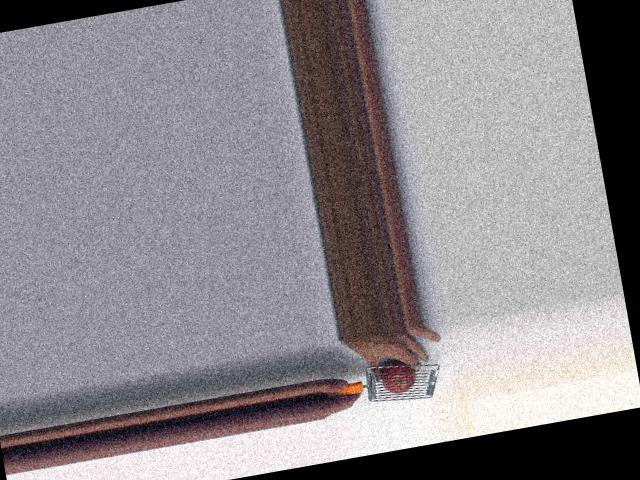tomato: (377, 358, 417, 395)
